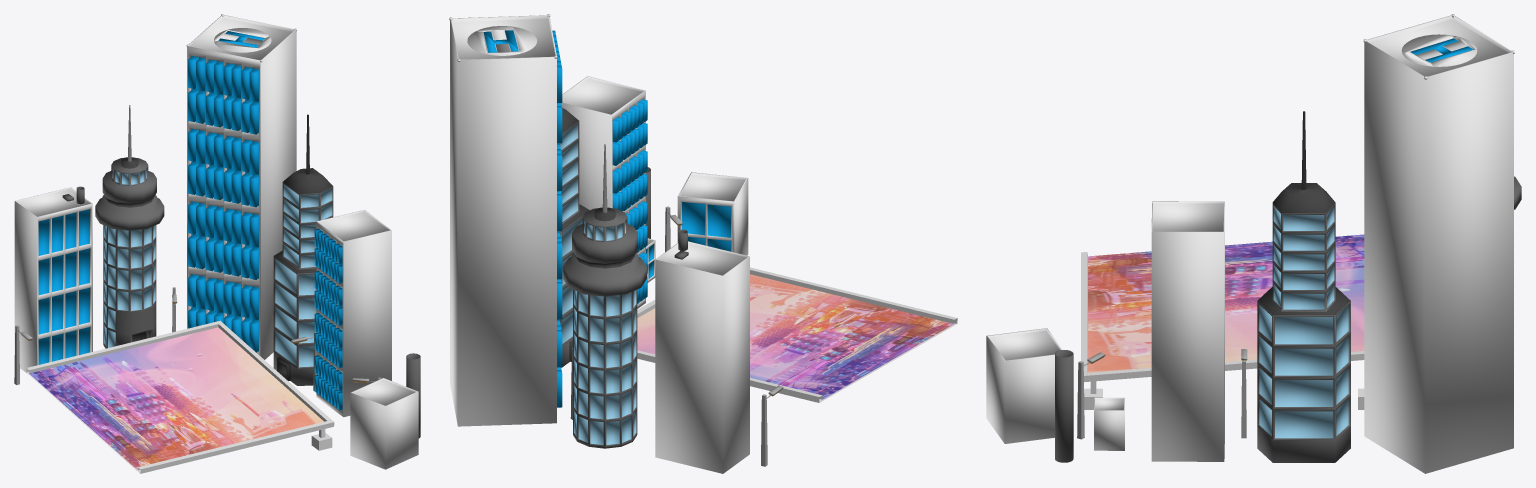
File: ch03_left.fbx
The picture shows the model from 3 angles, left to right: view 1: azimuth 30°, elevation 25°; view 2: azimuth 150°, elevation 25°; view 3: azimuth 270°, elevation 25°; orthographic projection. The views are drawn at different scales.
Visible parts, largest first — view 1: Ch03_Right; view 2: Ch03_Right; view 3: Ch03_Right.
Part boxes in pixels (left/top/right/bottom): Ch03_Right: left=14, top=14, right=420, bottom=473; Ch03_Right: left=449, top=14, right=957, bottom=473; Ch03_Right: left=986, top=14, right=1521, bottom=473.
Bounding box in the file's own units: 14.86 × 14.94 × 18.26.
